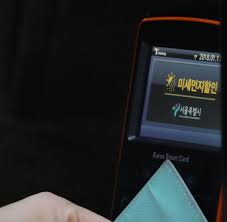terminal: (120, 9, 225, 222)
